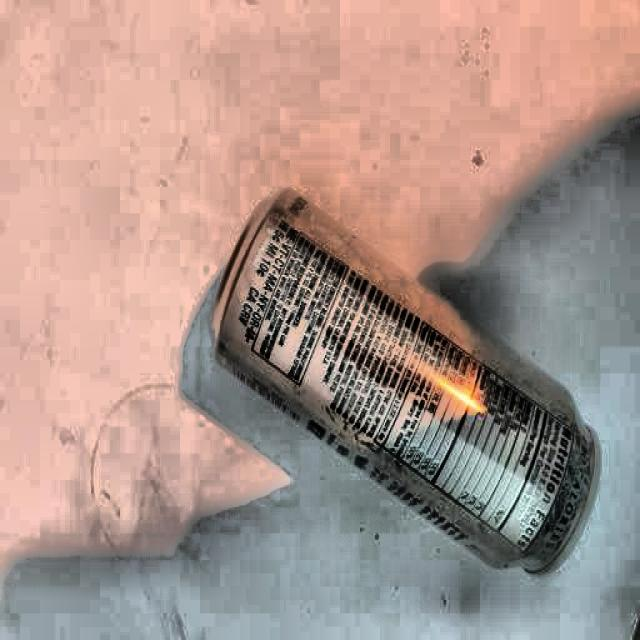metal: (210, 182, 602, 588)
